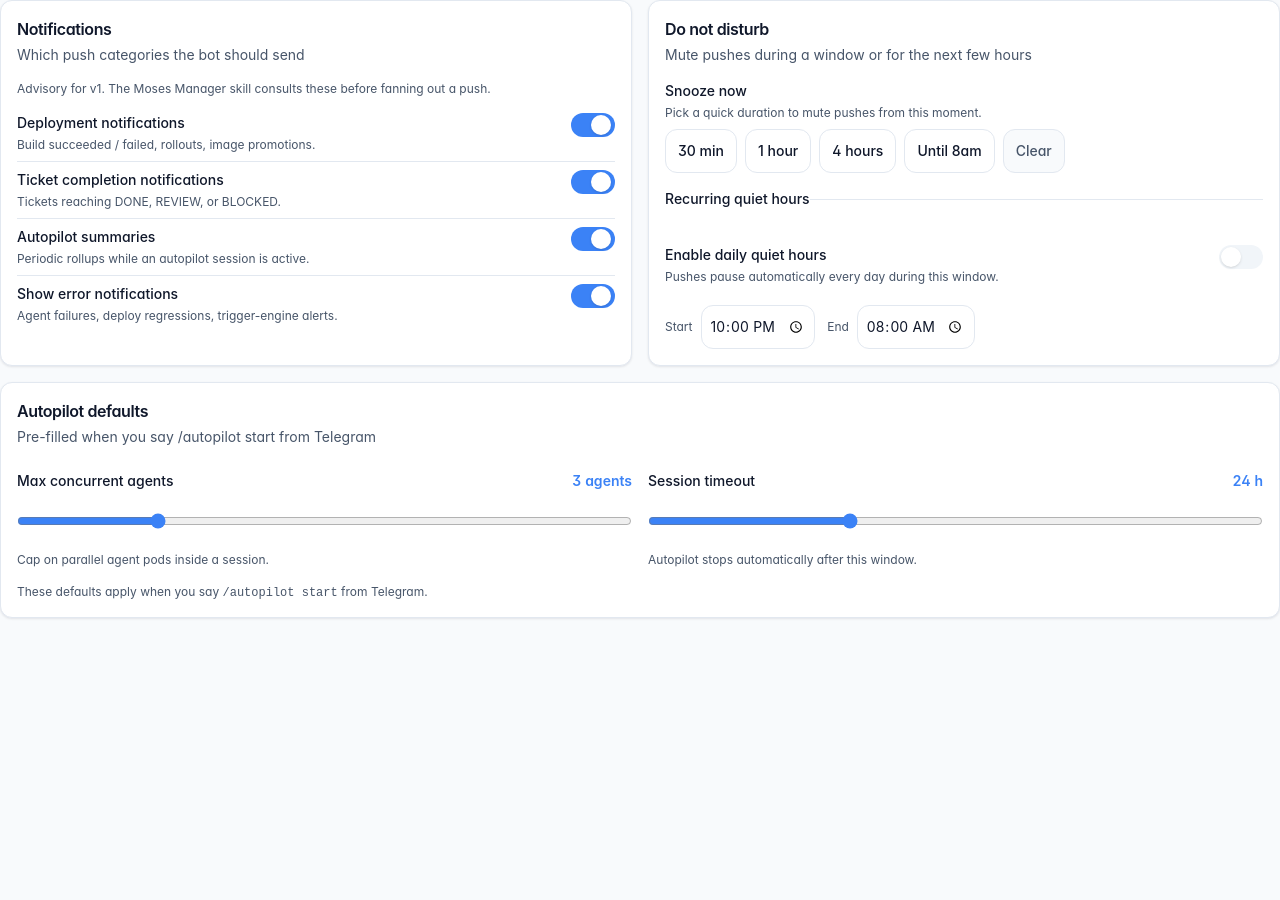
Test: <Settings /> › DND quick-pick "30 min" updates dndUntil in the store
This screenshot has width=1280, height=900.
Click the button "30 min" at (701, 151), box [665,129,737,173]
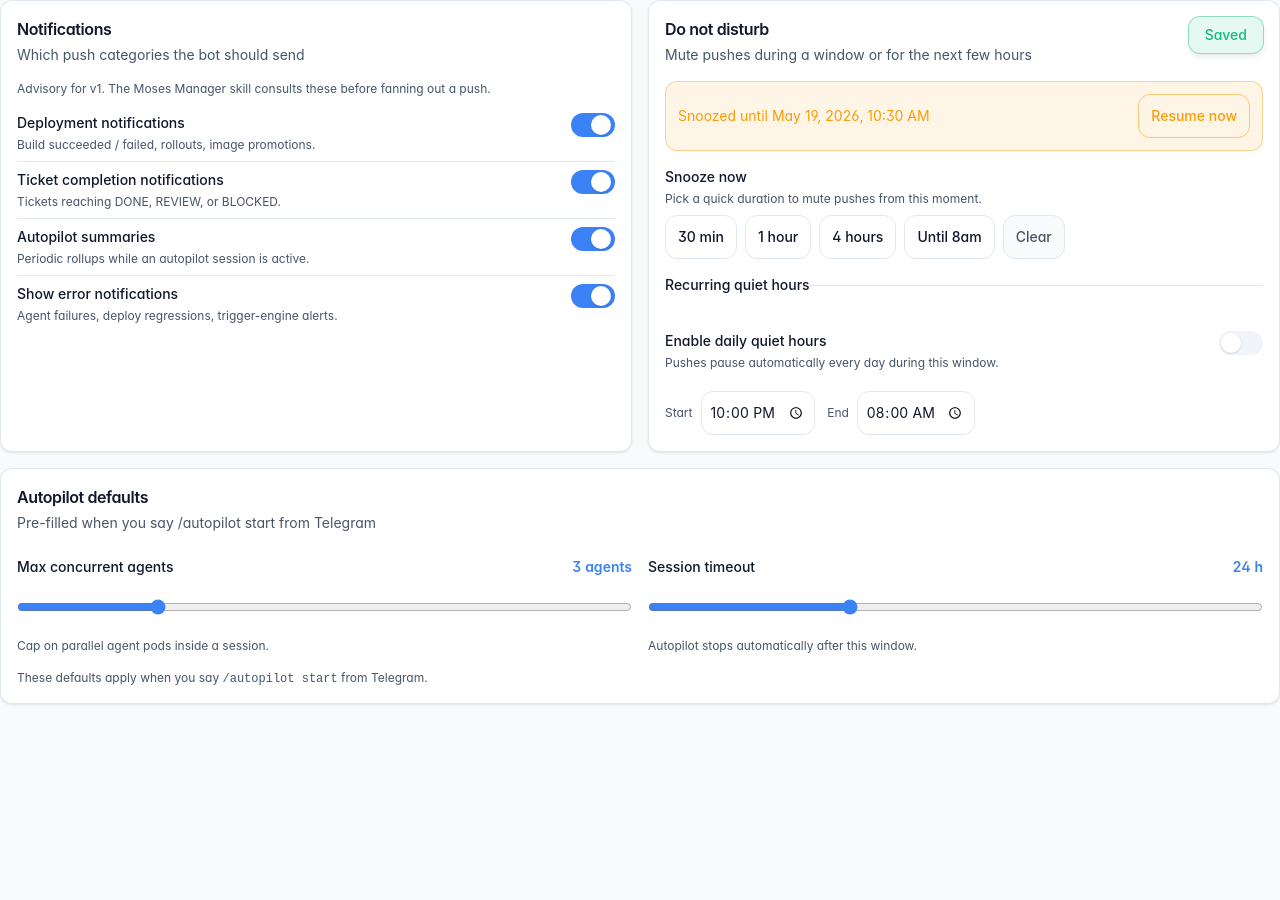
Check: the text "Snoozed until May 19, 2026, 10:30 AM" is shown, box [678,106,930,126]
